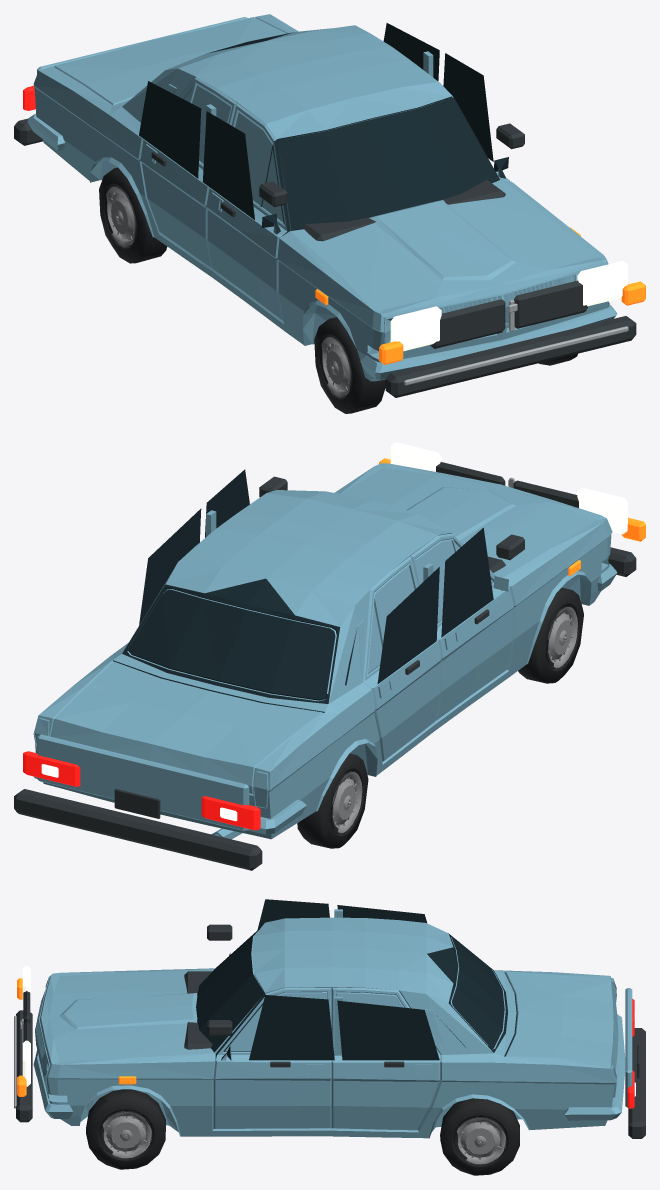
3 renders of one model, top to bottom at view 1: azimuth 30°, elevation 25°; view 2: azimuth 150°, elevation 25°; view 3: azimuth 270°, elevation 25°, orthographic. The views are drawn at different scales.
Visible parts, largest first — view 1: chassisbody, side_glass, front_bumper, wheel_fr, wheel_rr, grille_left, grille_right, headlight_right, headlight_left, interior_dash, front_bumper_chrome; view 2: chassisbody, side_glass, rear_panel, rear_bumper, wheel_rr, wheel_fr, headlight_right, taillight_right, taillight_left, headlight_left, rear_plate, grille_right (+2 smaller); view 3: chassisbody, side_glass, wheel_fl, wheel_rl, rear_bumper, front_bumper, interior_dash, rear_panel, mirror_right, mirror_left.
Part boxes in pixels (x1,y1,x2,y2): chassisbody: [27, 14, 617, 381]; side_glass: [139, 23, 493, 219]; front_bumper: [385, 316, 636, 397]; wheel_fr: [314, 317, 385, 413]; wheel_rr: [99, 167, 167, 263]; grille_left: [514, 280, 587, 328]; grille_right: [430, 299, 505, 348]; headlight_right: [390, 306, 441, 351]; headlight_left: [577, 261, 627, 306]; interior_dash: [303, 180, 505, 241]; front_bumper_chrome: [404, 326, 628, 385]; chassisbody: [33, 463, 617, 839]; side_glass: [139, 469, 493, 683]; rear_panel: [37, 734, 249, 831]; rear_bumper: [14, 789, 262, 870]; wheel_rr: [297, 753, 368, 848]; wheel_fr: [518, 587, 583, 683]; headlight_right: [577, 487, 627, 534]; taillight_right: [201, 796, 260, 830]; taillight_left: [23, 751, 80, 786]; headlight_left: [390, 442, 441, 471]; rear_plate: [114, 789, 160, 818]; grille_right: [513, 480, 578, 507]; chassisbody: [33, 917, 625, 1138]; side_glass: [249, 899, 439, 1060]; wheel_fl: [86, 1089, 165, 1169]; wheel_rl: [440, 1098, 519, 1175]; rear_bumper: [628, 1028, 645, 1138]; front_bumper: [16, 1010, 32, 1122]; interior_dash: [184, 971, 212, 1049]; rear_panel: [625, 988, 632, 1107]; mirror_right: [207, 924, 232, 940]; mirror_left: [207, 1020, 232, 1035].
Size of the model in its own units: 1.98 by 1.61 by 5.
